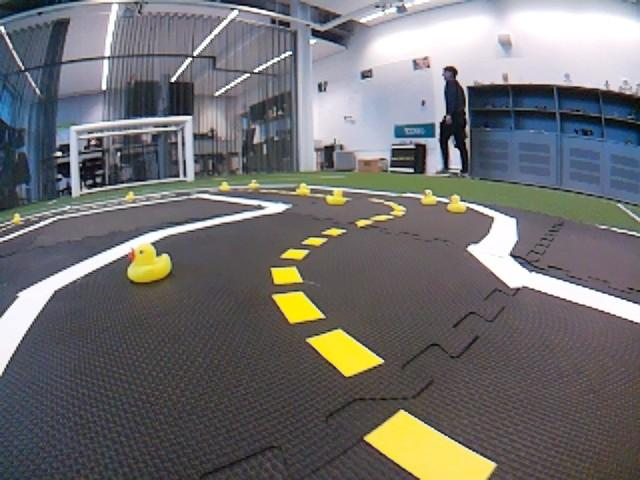Duckies: (126, 243, 171, 283), (446, 194, 467, 213), (326, 190, 348, 205), (420, 189, 437, 205), (296, 183, 310, 196), (11, 214, 22, 224), (249, 180, 260, 189), (218, 182, 229, 191), (126, 191, 135, 200)
